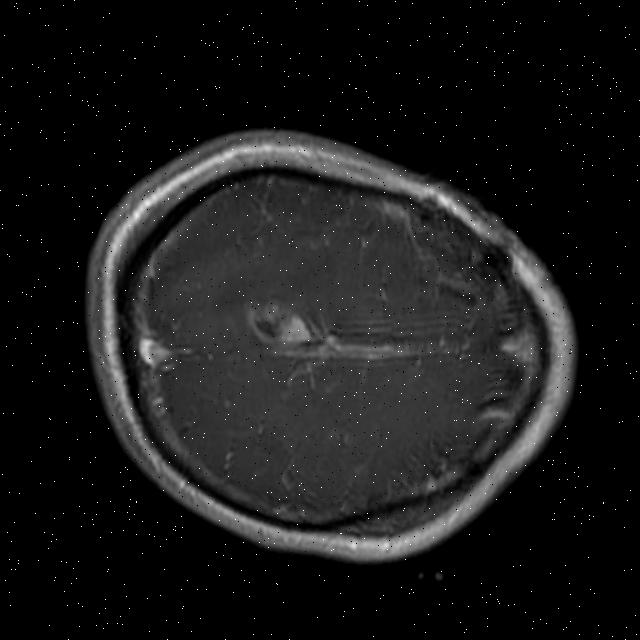Glioma: (234, 289, 319, 357)
